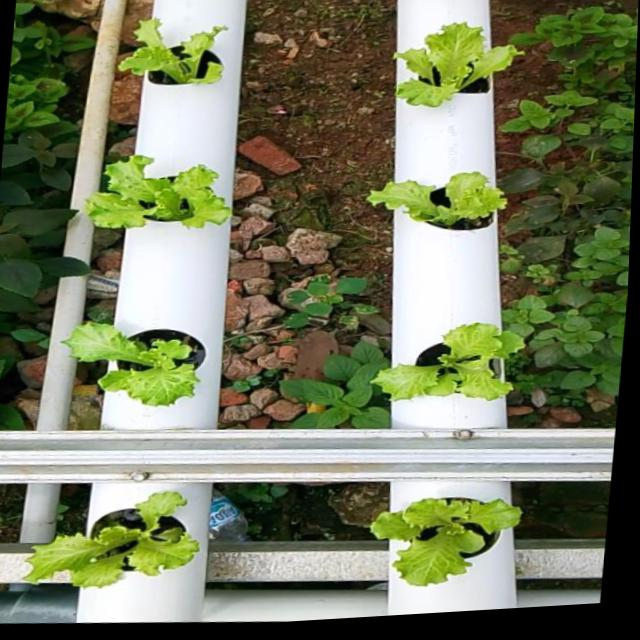Baby: (17, 486, 193, 582), (366, 481, 517, 585), (365, 320, 521, 400), (61, 322, 206, 407), (394, 22, 524, 107), (83, 155, 231, 229), (366, 171, 508, 231), (116, 18, 226, 84)
